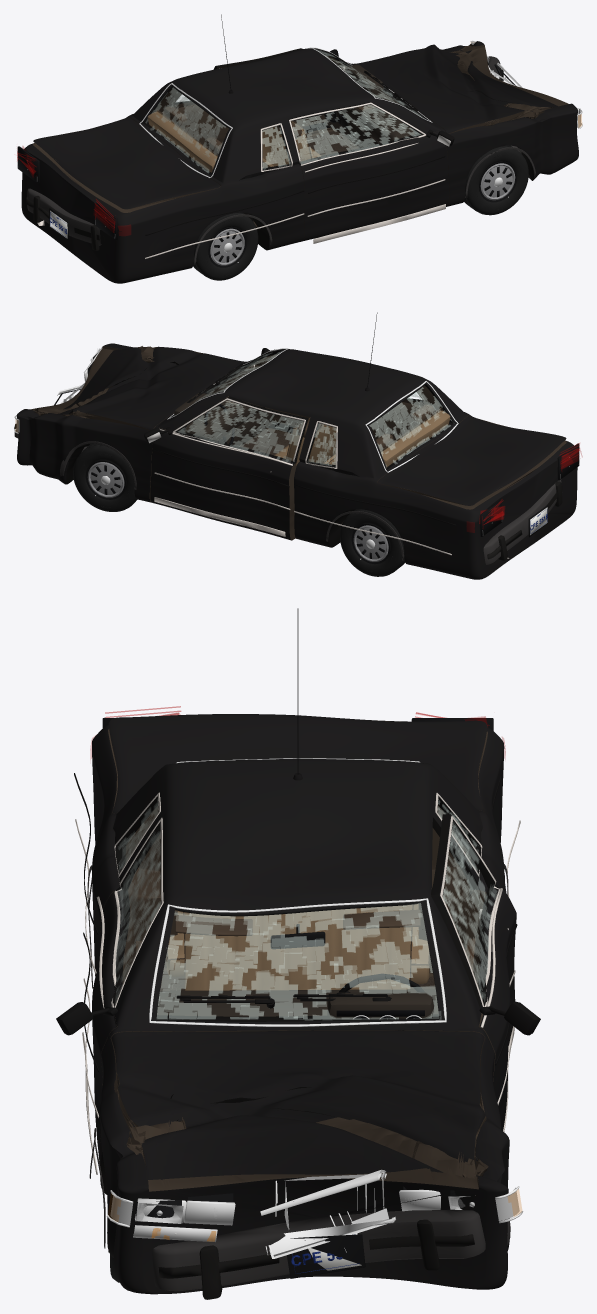
The model's file is coupe84_front_d1_lod1.glb.
3 renders of one model, top to bottom at view 1: azimuth 30°, elevation 25°; view 2: azimuth 150°, elevation 25°; view 3: azimuth 270°, elevation 25°, orthographic. The views are drawn at different scales.
Visible parts, largest first — view 1: Body, Door_FR, Trunk, Hood, Interior, Glass, Glass_FR, Wheel_FR_mesh, Wheel_RR_mesh, Trim_FR, Ends, Trim (+3 smaller); view 2: Body, Door_FL, Trunk, Hood, Interior, Glass, Wheel_FL_mesh, Wheel_RL_mesh, Glass_FL, Trim_FL, Trim, Ends (+3 smaller); view 3: Body, Hood, Interior, Glass, Trunk, Bumper_F, Ends, Door_FL, Door_FR, Trim, Glass_FL, Glass_FR (+2 smaller).
Boxes of the visible parts, x1,y1,x2,y2 form: Body: (21,41,578,283); Door_FR: (288,102,449,240); Trunk: (33,117,220,209); Hood: (354,44,557,133); Interior: (147,64,418,172); Glass: (139,47,432,178); Glass_FR: (289,103,422,165); Wheel_FR_mesh: (464,145,528,215); Wheel_RR_mesh: (193,212,258,280); Trim_FR: (289,102,454,243); Ends: (17,40,582,240); Trim: (145,14,536,264); Body: (16,343,577,579); Door_FL: (150,396,308,540); Trunk: (377,415,566,505); Hood: (49,346,244,430); Interior: (174,369,450,466); Glass: (167,348,458,472); Wheel_FL_mesh: (73,443,137,511); Wheel_RL_mesh: (340,509,405,576); Glass_FL: (176,398,306,466); Trim_FL: (144,398,305,536); Trim: (60,312,456,560); Ends: (14,343,579,537); Body: (92,725,509,1294); Hood: (111,1030,486,1179); Interior: (157,904,438,1019); Glass: (117,758,478,1026); Trunk: (108,714,487,813); Bumper_F: (152,1209,485,1299); Ends: (102,717,523,1278); Door_FL: (431,814,516,1130); Door_FR: (92,816,164,1161); Trim: (74,608,520,1248); Glass_FL: (438,822,500,1001); Glass_FR: (113,828,163,1002).
Size of the model in its own units: 4.91 by 2.15 by 2.13.
Materials: 34 (5 with a texture image).
